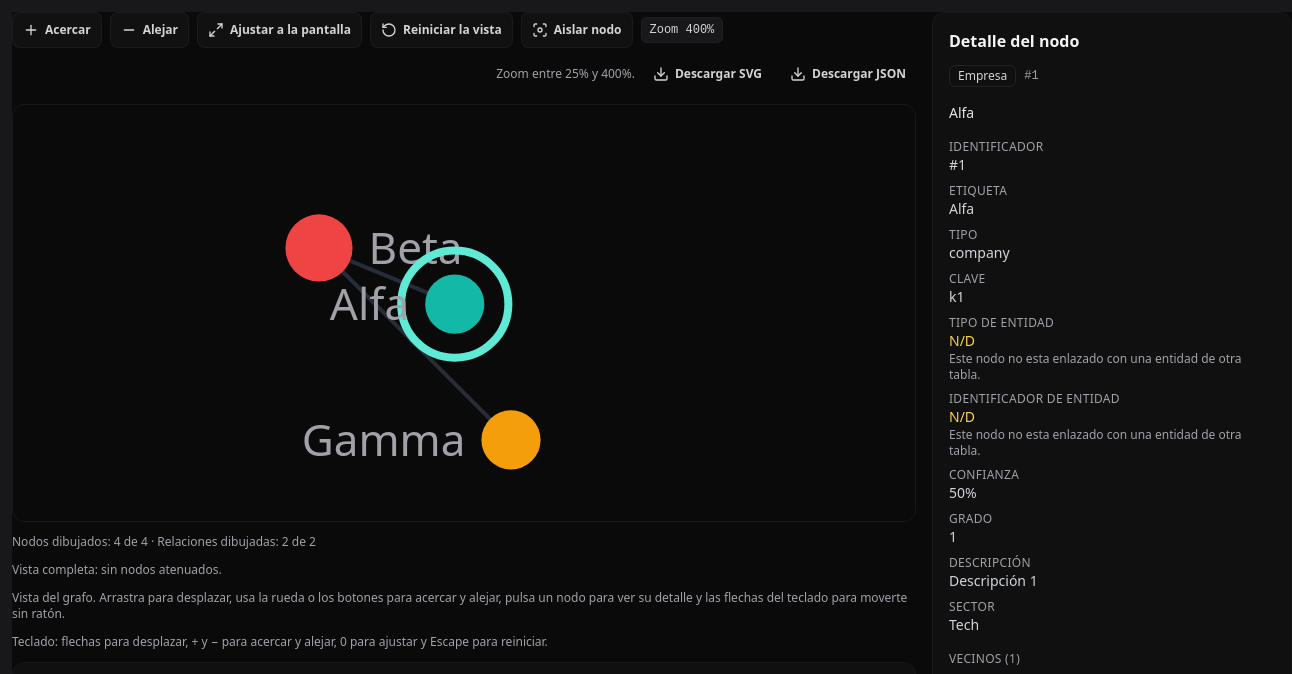
Test case: KnowledgeGraphCanvas: aislar, reiniciar, buscar › aislar atenúa lo que no es vecino directo y lo dice; volver a pulsar restaura
Click the button with test id "kg-isolate": x=577, y=30 [521,12,632,48]
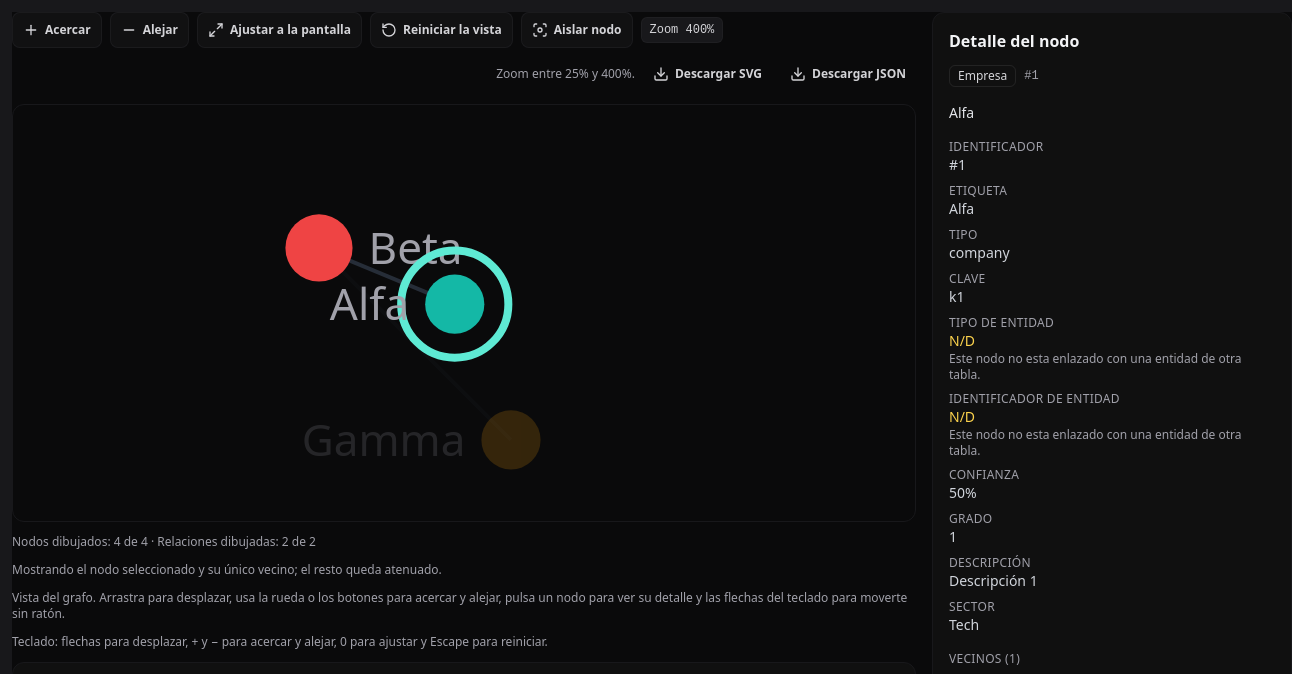
Expected: the text with test id "kg-isolation-note" no longer shows "Vista completa: sin nodos atenuados."
Click the button with test id "kg-fit": x=280, y=30 [197,12,362,48]
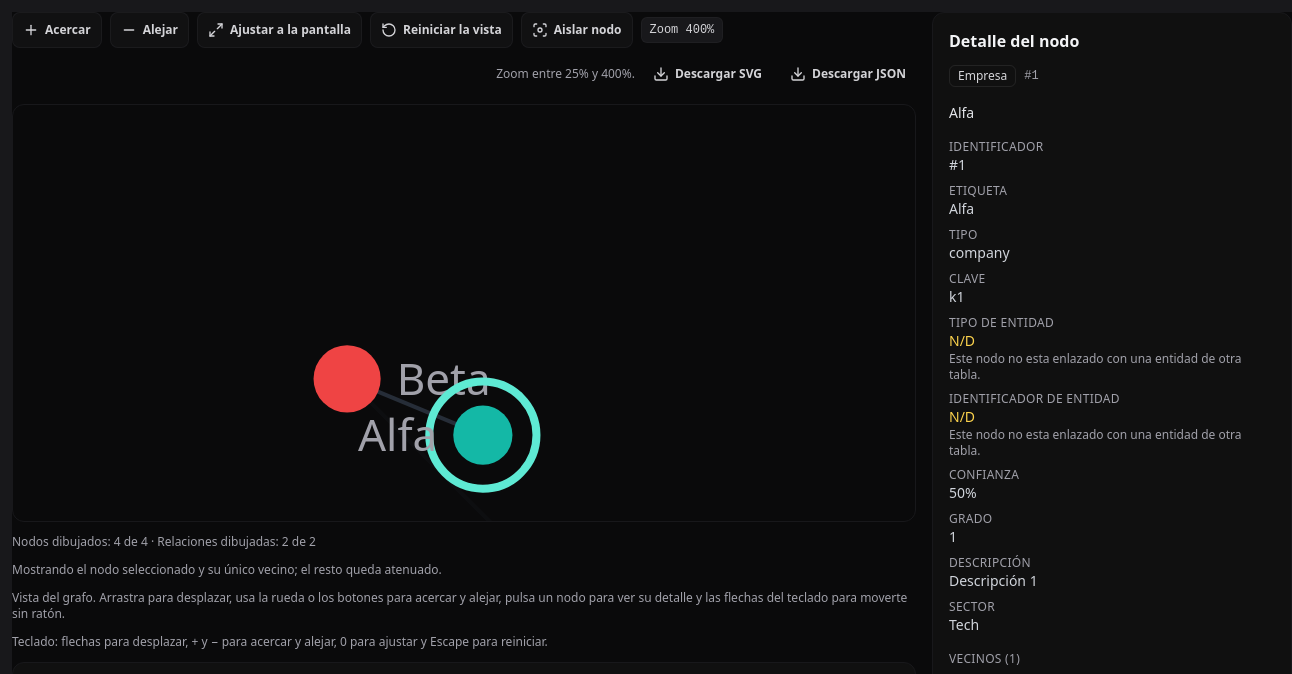
Click the button with test id "kg-isolate": x=577, y=30 [521,12,632,48]
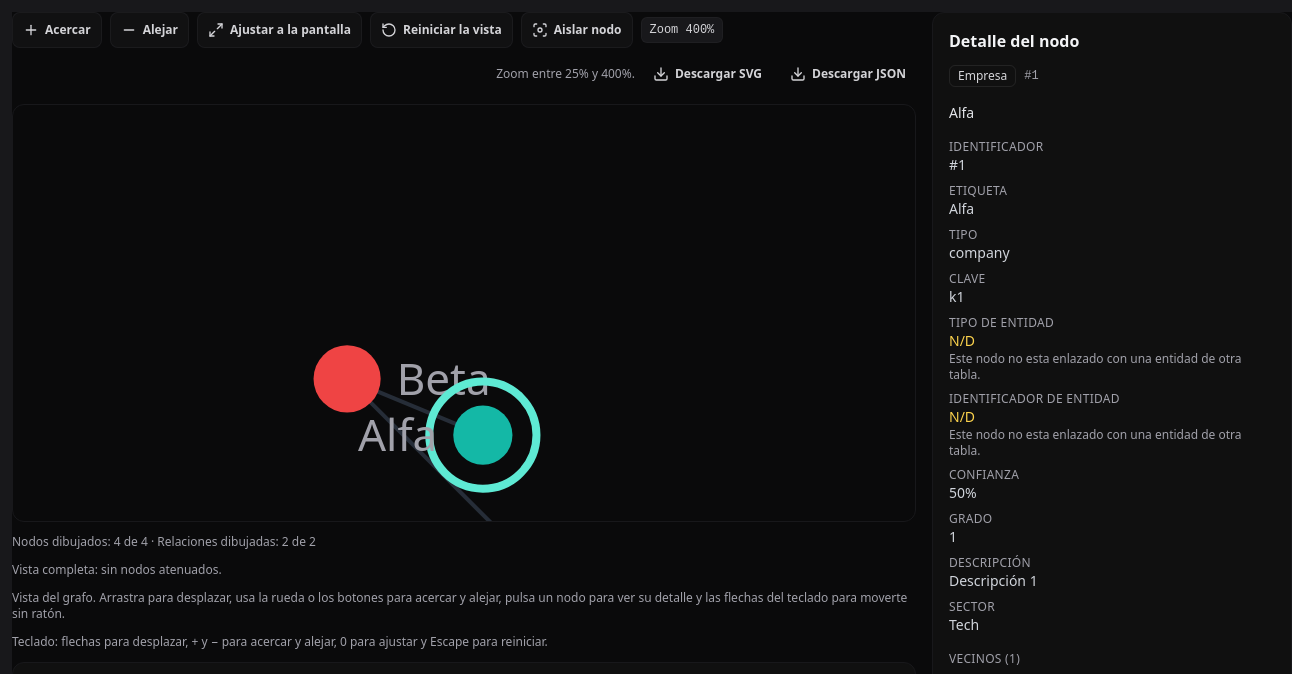
Expected: the text with test id "kg-isolation-note" reads "Vista completa: sin nodos atenuados.", [12,561,222,578]
